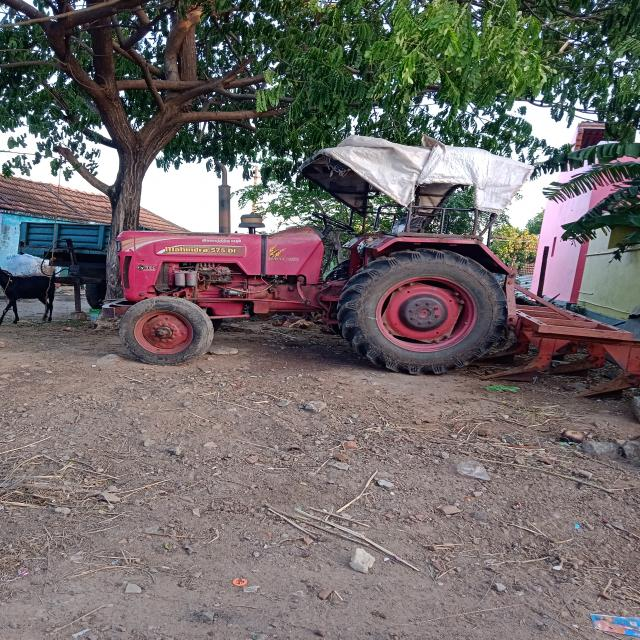Tractor: (111, 226, 541, 386)
